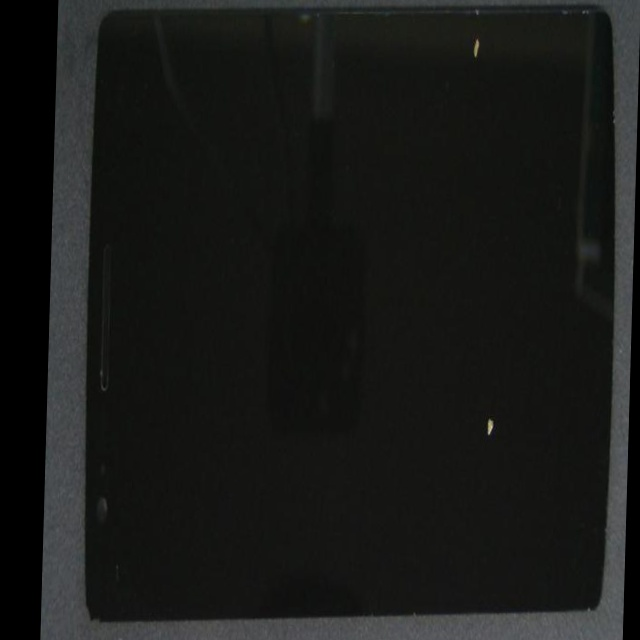stain: (290, 172, 636, 640), (285, 0, 640, 93)
